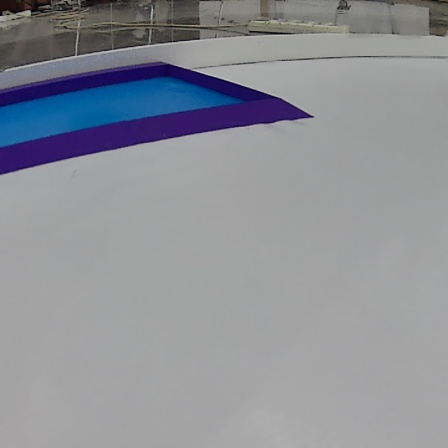blue_aim: (2, 63, 315, 170)
